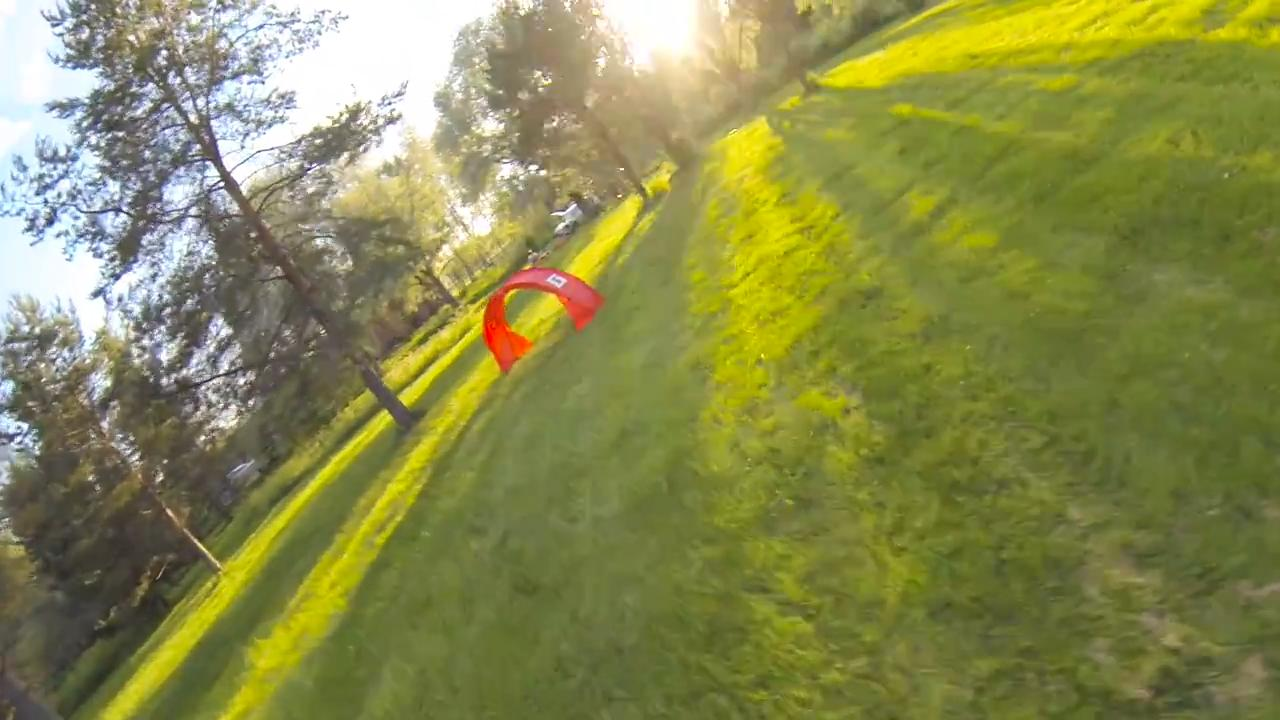gate: (478, 267, 607, 376)
